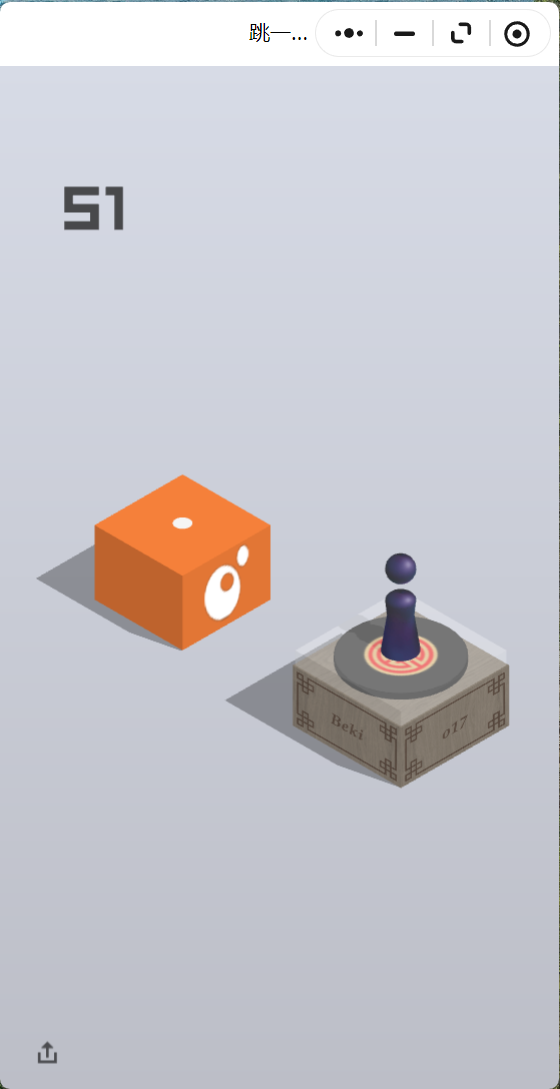piece: (385, 553, 416, 657)
target: (96, 475, 271, 574)
